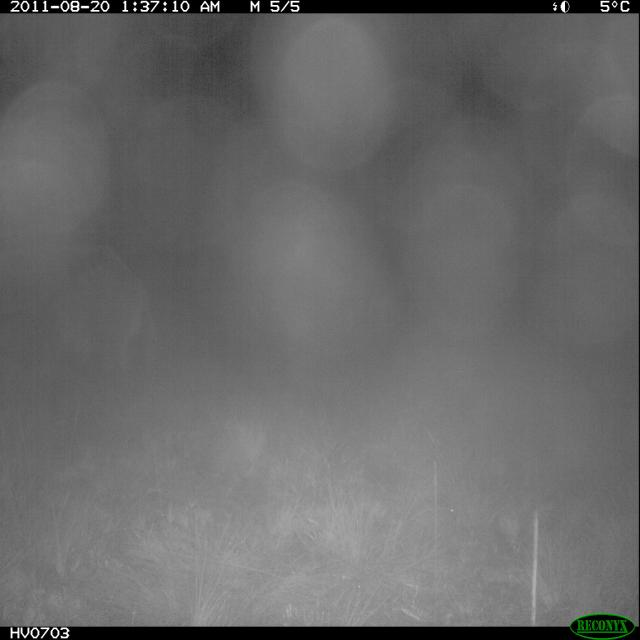boar: (0, 208, 191, 402)
